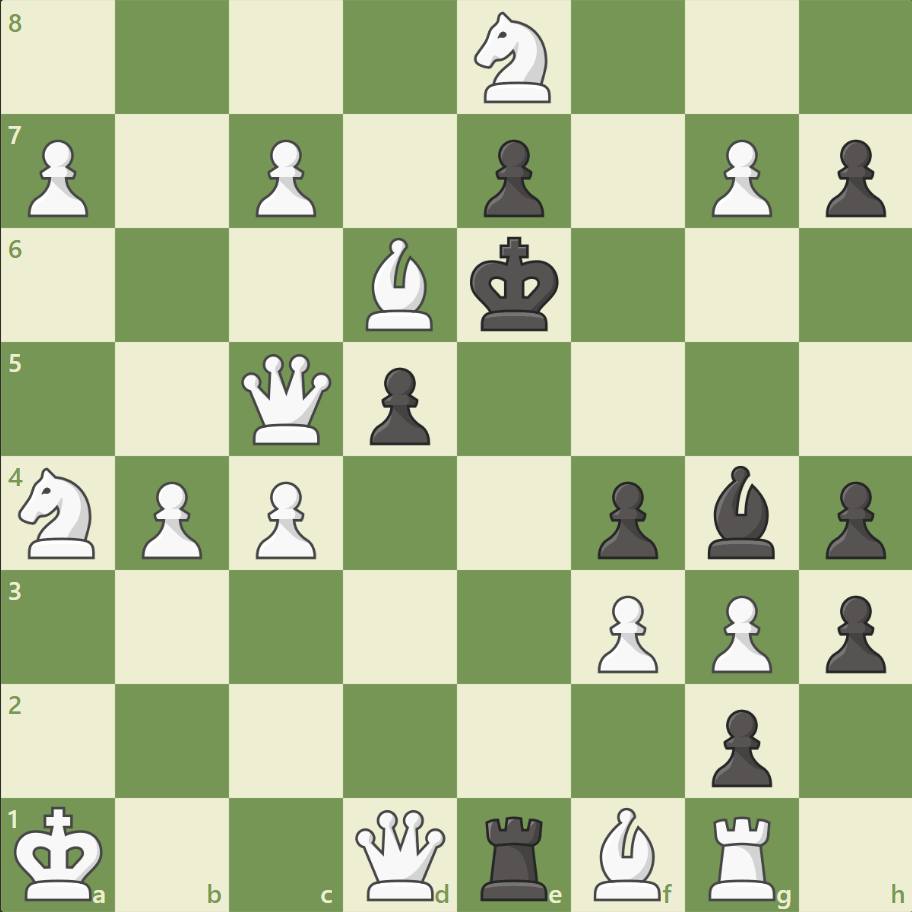B: (358, 233, 442, 336), (585, 801, 669, 904)
K: (11, 798, 111, 906)
N: (465, 7, 562, 110), (11, 461, 108, 564)
P: (20, 132, 95, 223), (247, 132, 322, 223), (701, 132, 776, 223), (133, 473, 208, 564), (247, 473, 322, 564), (701, 586, 776, 677), (588, 586, 662, 677)
Q: (237, 349, 336, 449), (351, 804, 450, 903)
R: (700, 806, 783, 904)
b: (698, 460, 782, 563)
k: (465, 231, 565, 339)
p: (474, 132, 549, 223), (701, 700, 776, 791), (815, 132, 889, 223), (361, 359, 435, 450), (588, 473, 662, 564), (815, 473, 889, 564), (815, 586, 889, 677)
r: (473, 806, 556, 904)
